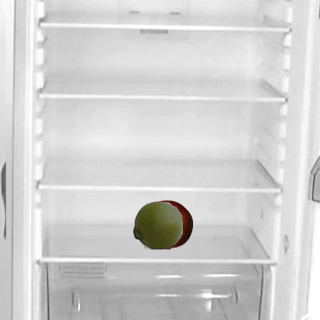Apple Braeburn: (142, 199, 192, 249)
Grape White 4: (132, 199, 182, 249)
